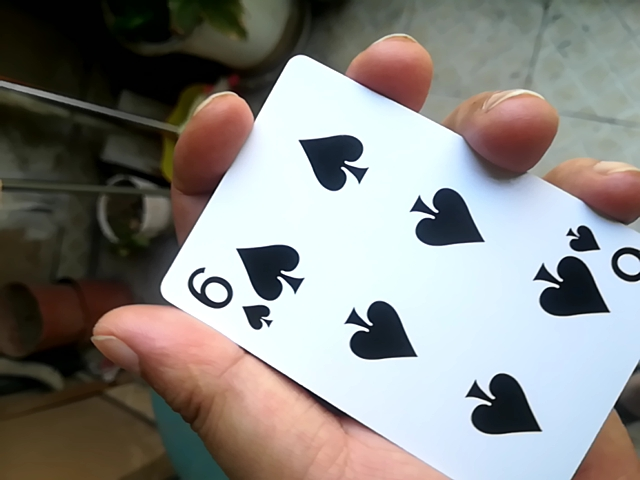ht 6: (163, 74, 640, 477)
